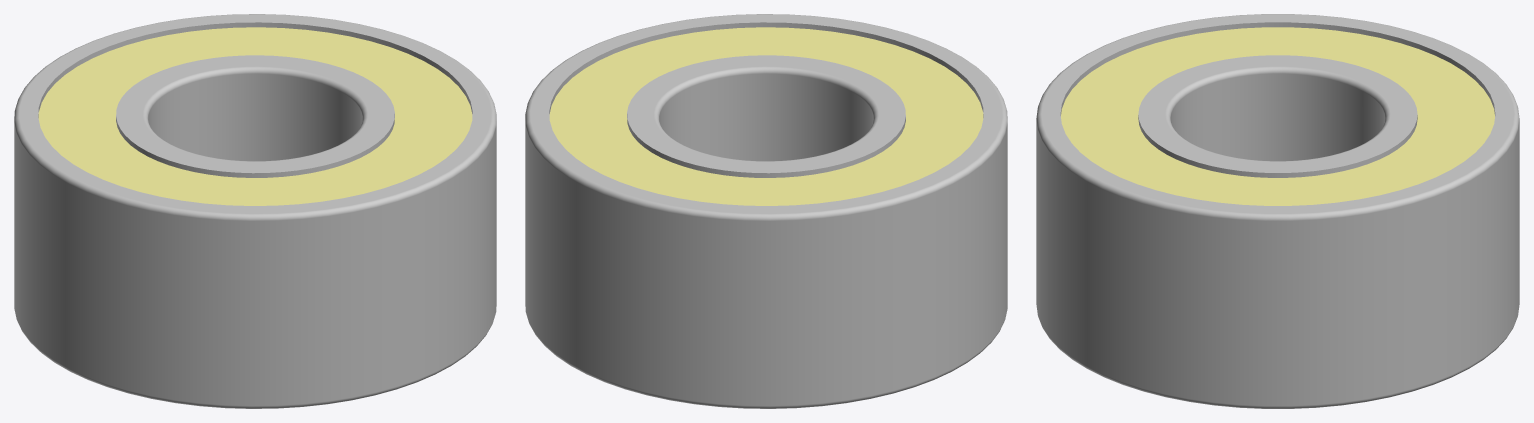
3 views of the same model, side by side, from view 1: azimuth 30°, elevation 25°; view 2: azimuth 150°, elevation 25°; view 3: azimuth 270°, elevation 25° (orthographic).
Visible parts, largest first — view 1: mesh2397, mesh2401, mesh2405, mesh2399, mesh2403, mesh2398, mesh2404, mesh2400, mesh2395, mesh2402; view 2: mesh2397, mesh2401, mesh2405, mesh2399, mesh2403, mesh2398, mesh2404, mesh2400, mesh2395, mesh2402; view 3: mesh2397, mesh2401, mesh2405, mesh2399, mesh2403, mesh2398, mesh2404, mesh2400, mesh2395, mesh2402.
Boxes of the visible parts, <box> form: mesh2397: <box>14,122,496,405</box>; mesh2401: <box>38,27,472,205</box>; mesh2405: <box>148,73,362,161</box>; mesh2399: <box>19,14,491,213</box>; mesh2403: <box>116,55,394,173</box>; mesh2398: <box>14,14,496,220</box>; mesh2404: <box>143,66,367,161</box>; mesh2400: <box>38,22,472,117</box>; mesh2395: <box>14,310,495,408</box>; mesh2402: <box>116,114,394,177</box>; mesh2397: <box>525,122,1007,405</box>; mesh2401: <box>549,27,983,205</box>; mesh2405: <box>659,73,873,161</box>; mesh2399: <box>530,14,1002,213</box>; mesh2403: <box>627,55,905,173</box>; mesh2398: <box>525,14,1007,220</box>; mesh2404: <box>654,66,878,161</box>; mesh2400: <box>549,22,983,117</box>; mesh2395: <box>526,310,1007,408</box>; mesh2402: <box>627,114,905,177</box>; mesh2397: <box>1036,120,1519,405</box>; mesh2401: <box>1061,27,1494,205</box>; mesh2405: <box>1170,73,1385,161</box>; mesh2399: <box>1041,14,1514,213</box>; mesh2403: <box>1138,55,1417,172</box>; mesh2398: <box>1036,14,1519,220</box>; mesh2404: <box>1165,66,1390,161</box>; mesh2400: <box>1060,22,1495,115</box>; mesh2395: <box>1038,316,1517,408</box>; mesh2402: <box>1138,115,1417,177</box>.
Size of the model in its own units: 0.00899 by 0.004 by 0.009.
